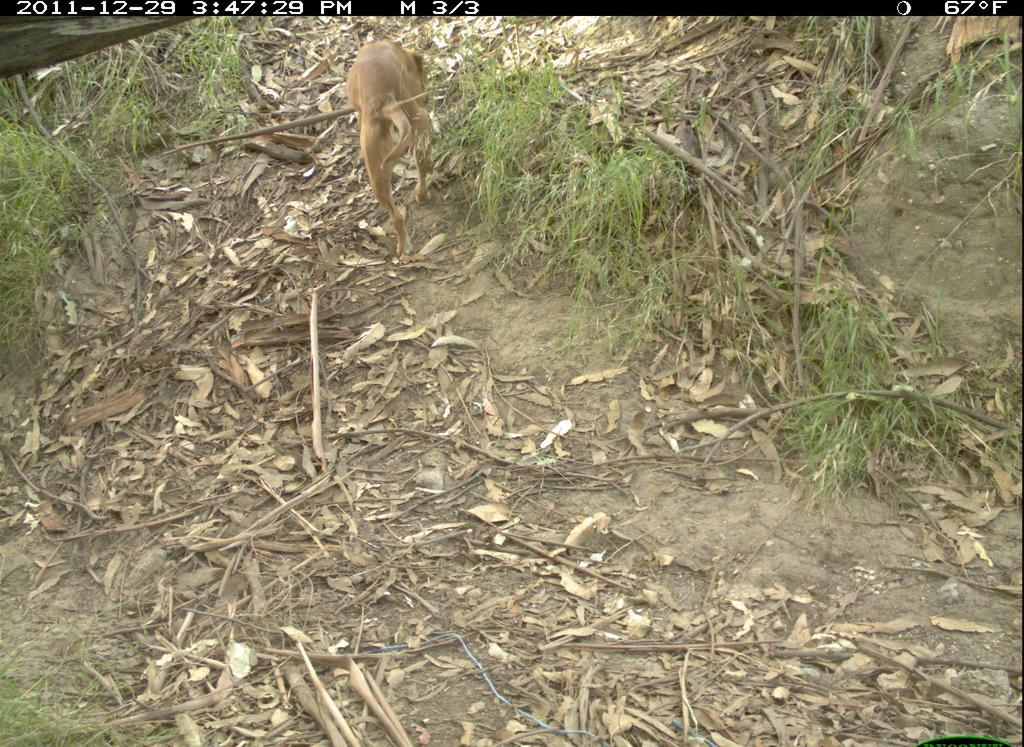dog: (345, 33, 450, 274)
